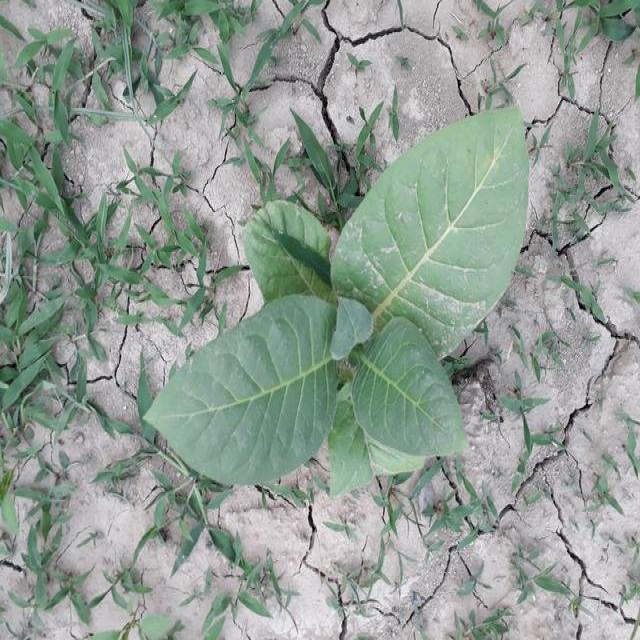crop: (153, 126, 528, 514)
